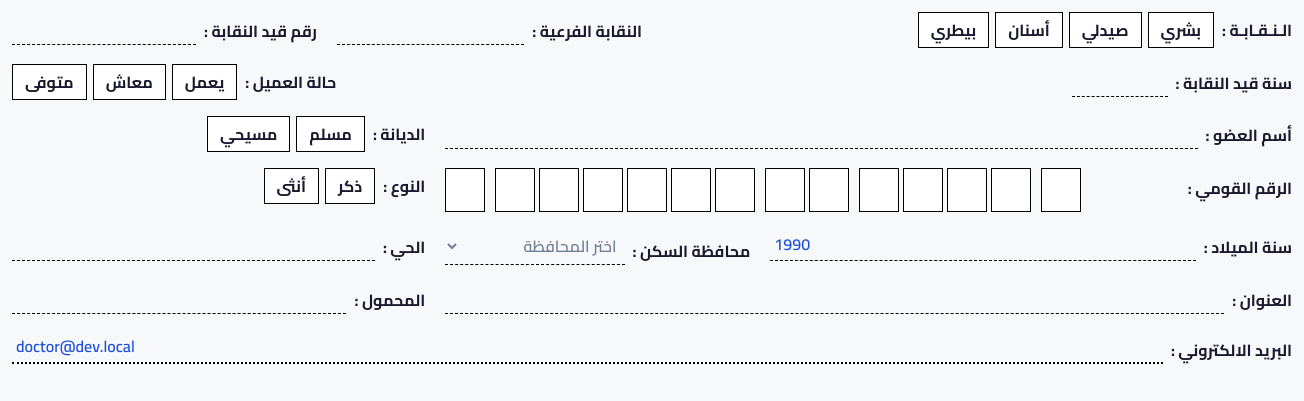
Test: MemberSection (PROMPT.md §9.4) › shows an inline error when the typed birth year contradicts the national ID
This screenshot has width=1304, height=401.
Click the field named "الرقم 1 من 14": (465, 190) [445, 168, 485, 212]
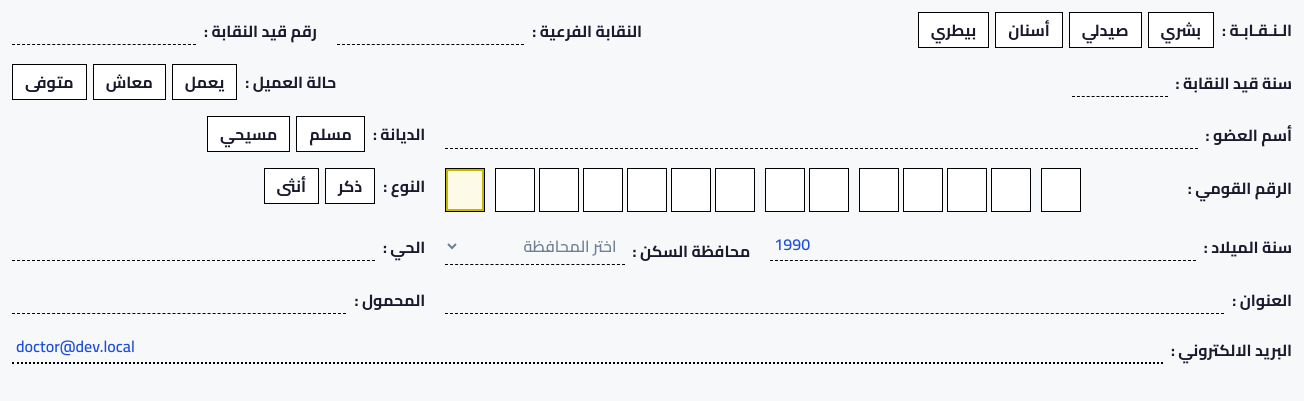
Type keys "28506150101234"
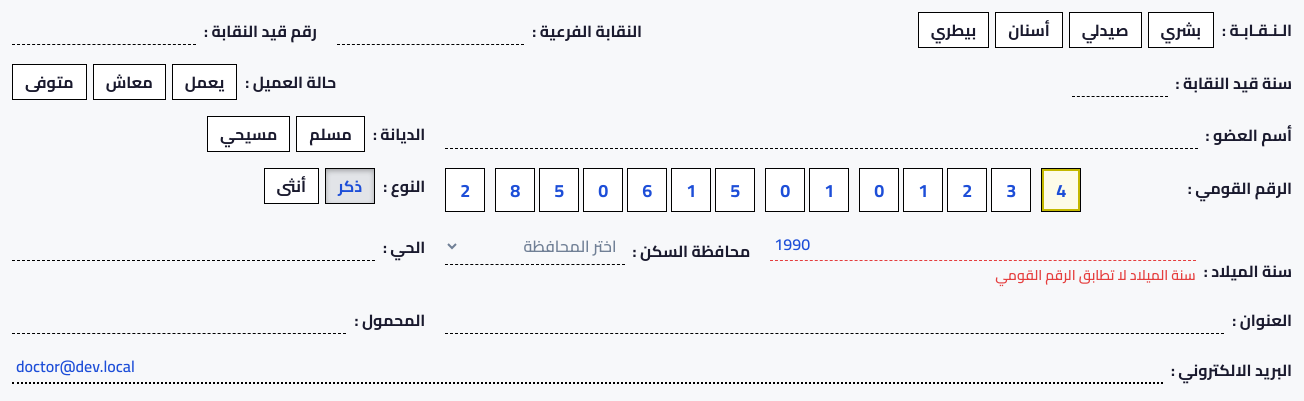
Expected: the text "سنة الميلاد لا تطابق الرقم القومي" is shown, [995, 262, 1196, 288]
